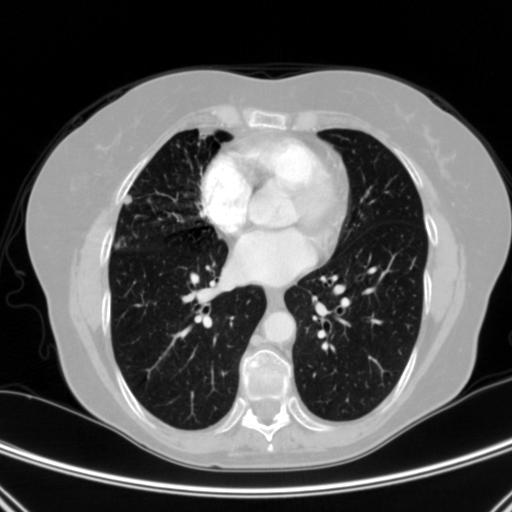nodule: (122, 193, 135, 206)
